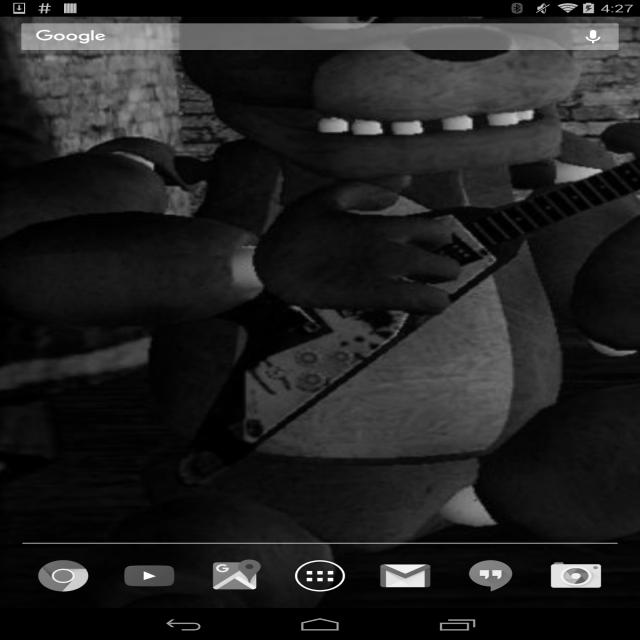EditText: (16, 21, 625, 54)
ImageView: (32, 556, 96, 595), (202, 560, 268, 597), (372, 560, 438, 595), (462, 560, 520, 597), (118, 564, 182, 592), (546, 565, 608, 593)
